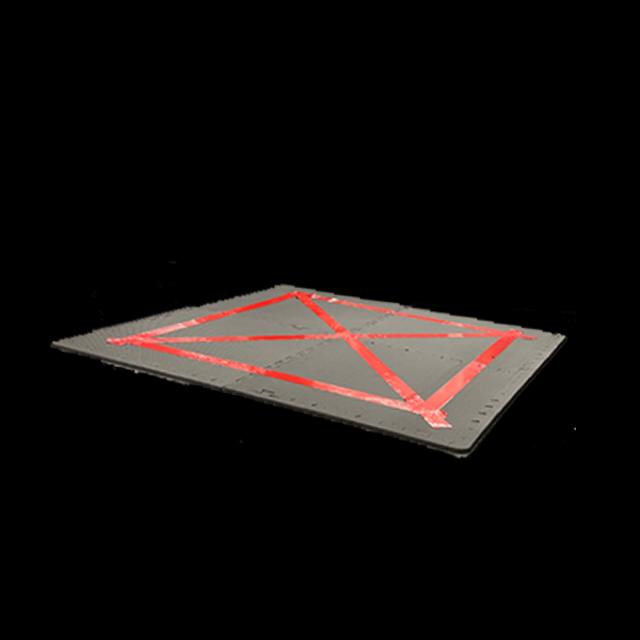landingPads: (52, 252, 566, 454)
